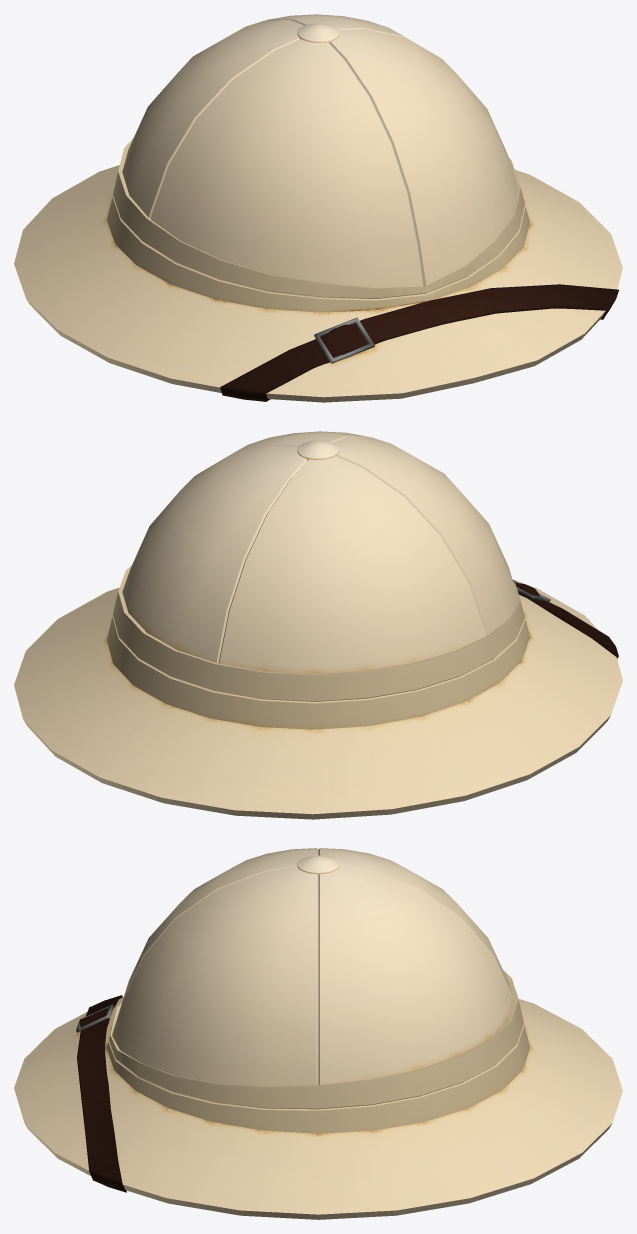
Rendered from SafariHelmet.FBX.
The picture shows the model from 3 angles, top to bottom: view 1: azimuth 30°, elevation 25°; view 2: azimuth 150°, elevation 25°; view 3: azimuth 270°, elevation 25°; orthographic projection. The views are drawn at different scales.
Visible parts, largest first — view 1: SafariHelmet; view 2: SafariHelmet; view 3: SafariHelmet.
Part boxes in pixels (x1,y1,x2,y2): SafariHelmet: (14,14,622,402); SafariHelmet: (14,431,622,819); SafariHelmet: (14,848,622,1219).
Bounding box in the file's own units: 51.7 × 23.66 × 53.78.
1 material, 1 textured.
